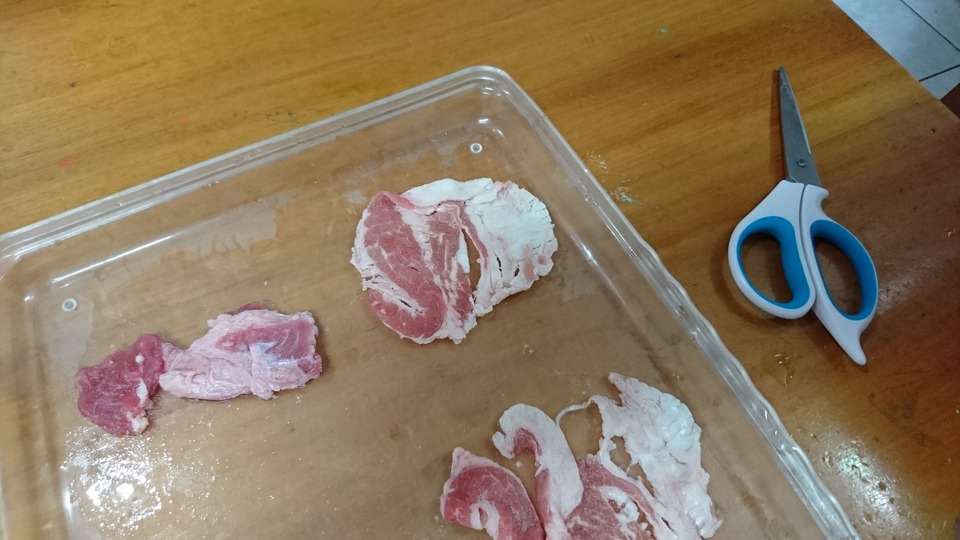restructured meat: (349, 173, 565, 346), (72, 302, 320, 442)
